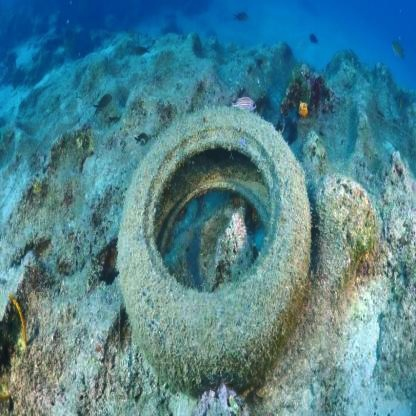tire: (115, 104, 318, 386)
